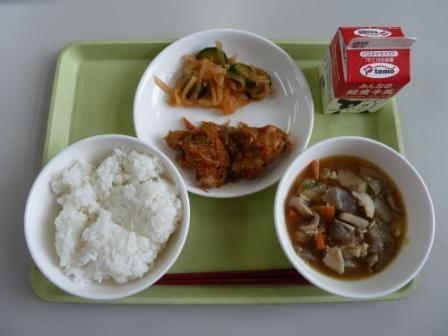Meat: (168, 110, 283, 184)
Milk: (318, 11, 415, 121)
Rice: (37, 145, 188, 294)
Salad: (163, 42, 276, 118)
Soups: (284, 144, 425, 280)
